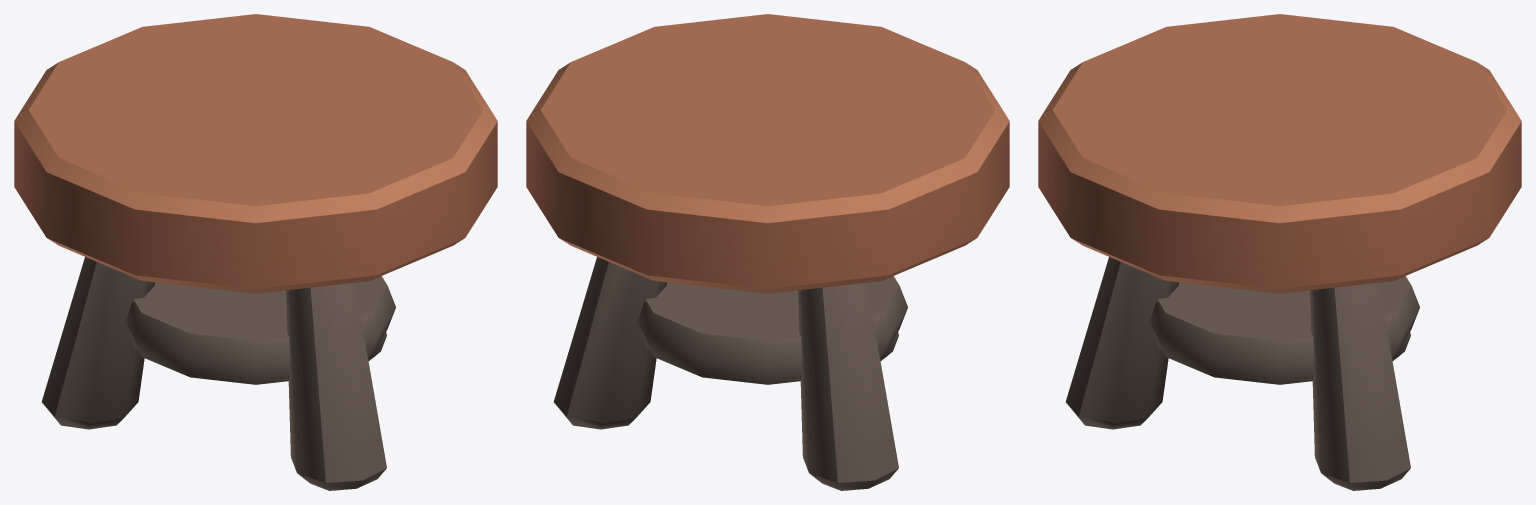
File: stool.glb
The picture shows the model from 3 angles, left to right: view 1: azimuth 30°, elevation 25°; view 2: azimuth 150°, elevation 25°; view 3: azimuth 270°, elevation 25°; orthographic projection.
Visible parts, largest first — view 1: stool; view 2: stool; view 3: stool.
Boxes of the visible parts, <box> form: stool: <box>14,14,497,490</box>; stool: <box>526,14,1009,490</box>; stool: <box>1038,14,1521,490</box>.
Bounding box in the file's own units: 1 × 0.7029 × 1.
1 material, 1 textured.
